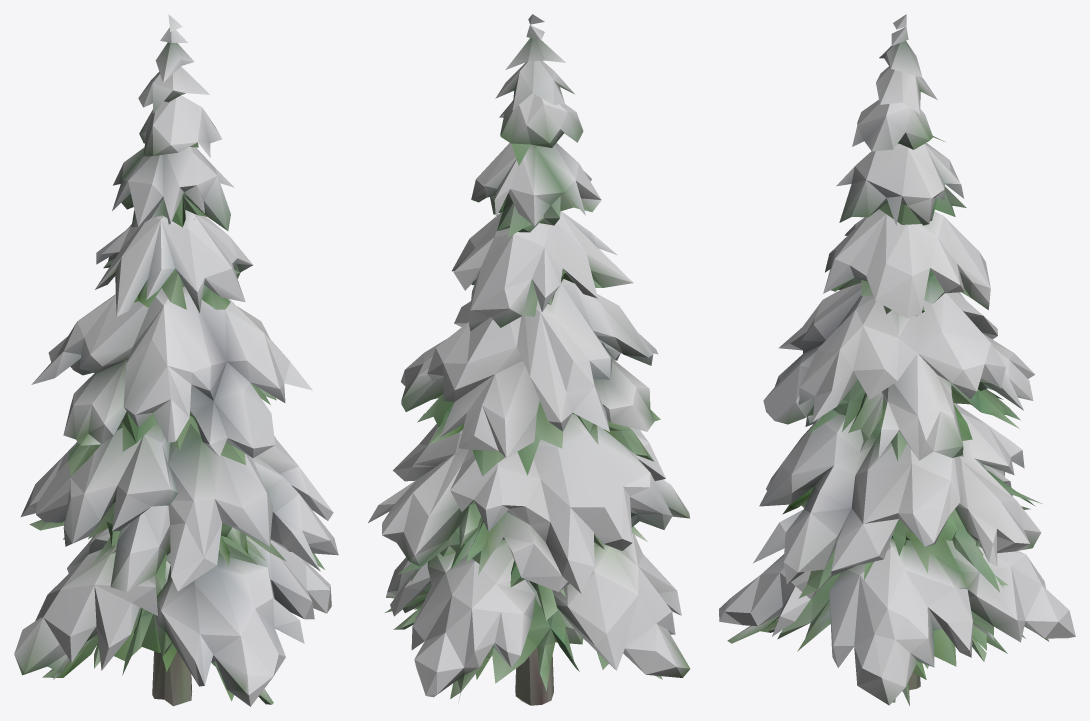
File: sapling_2.glb
3 views of the same model, side by side, from view 1: azimuth 30°, elevation 25°; view 2: azimuth 150°, elevation 25°; view 3: azimuth 270°, elevation 25° (orthographic).
Parts seen in each view (by area): view 1: geometry_0; view 2: geometry_0; view 3: geometry_0.
Boxes of the visible parts, x1=… form: geometry_0: x1=14, y1=14, x2=338, y2=706; geometry_0: x1=368, y1=14, x2=690, y2=705; geometry_0: x1=719, y1=14, x2=1075, y2=706.
Size of the model in its own units: 0.4678 by 1 by 0.4797.
